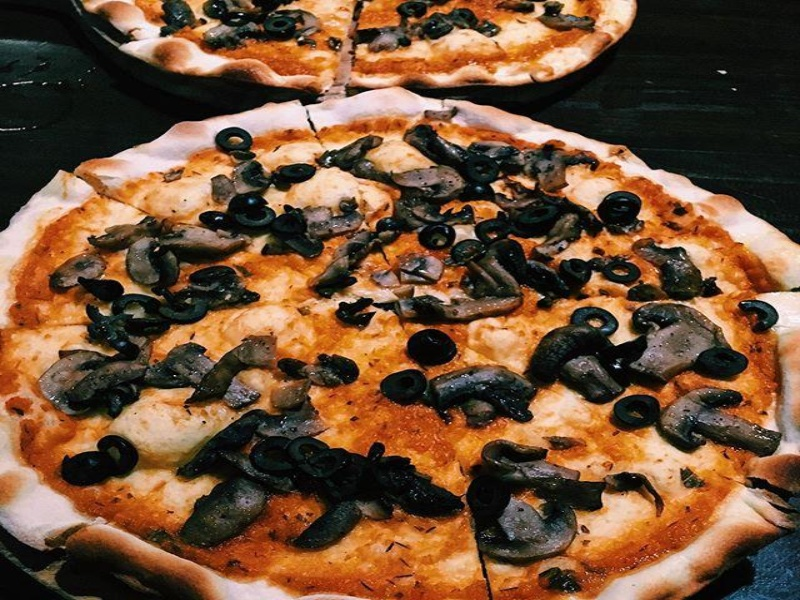champignon: (654, 387, 783, 461), (629, 302, 721, 395), (493, 497, 579, 563)
